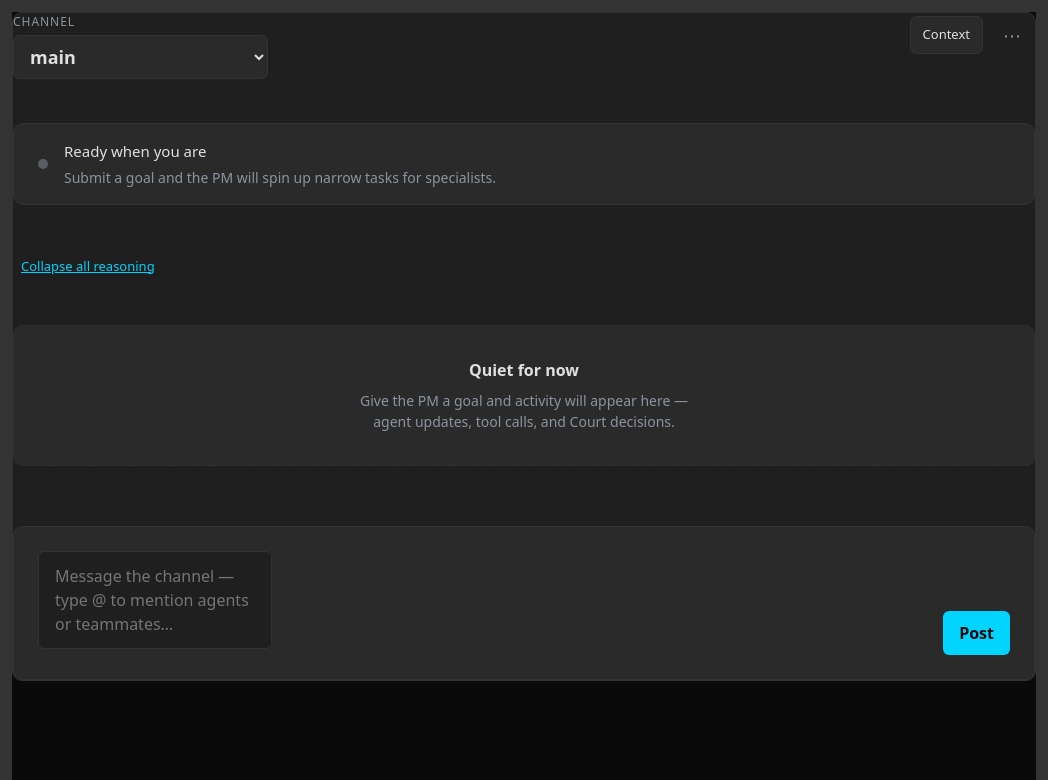
Scenario: ChannelsView create channel › shows an alert and does not select when create fails
Select "+ Create new channel…" in the dropdown with test id "channel-switcher" at (140, 57), box [13,35,268,79]
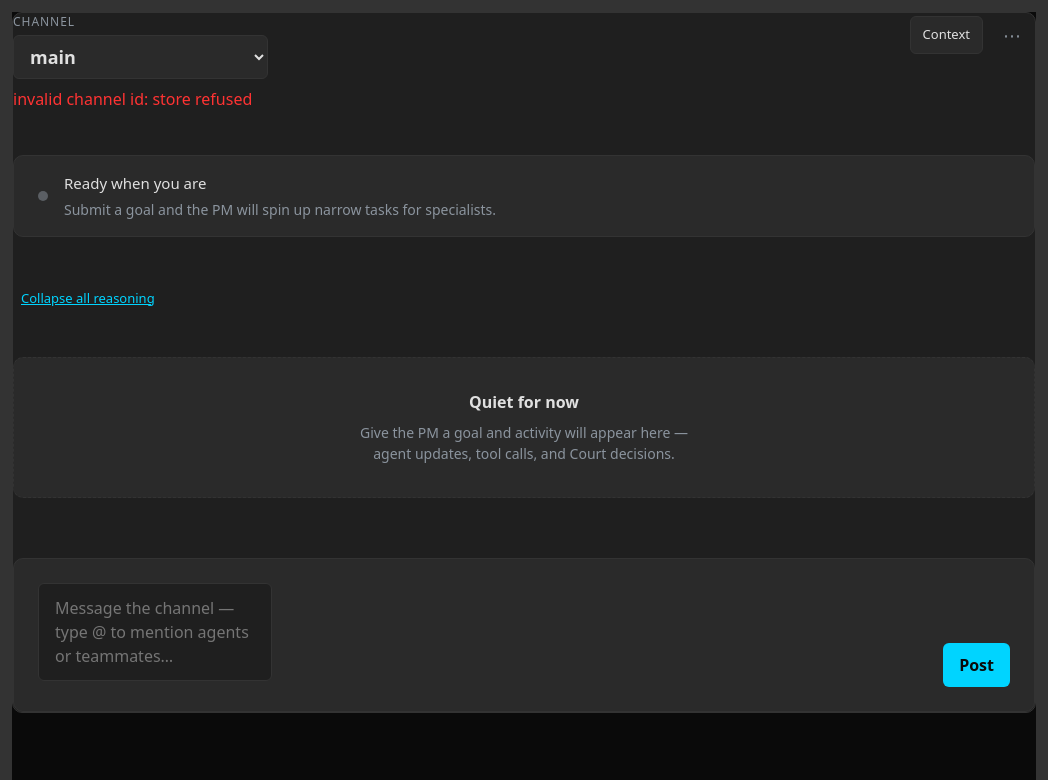
Now the message reads "invalid channel id: store refused", box [13,88,252,110]
